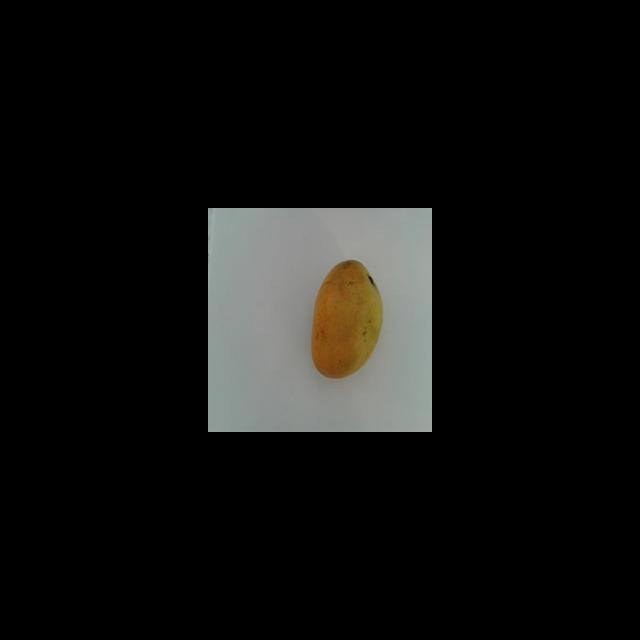Mango: (310, 259, 383, 379)
